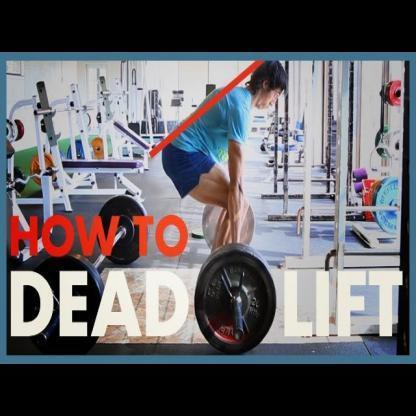barbell: (194, 244, 277, 356)
